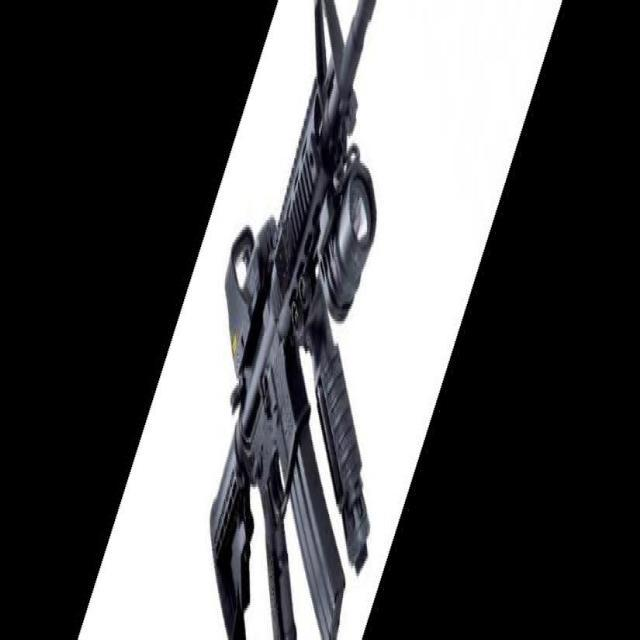weapon: (208, 0, 378, 640)
